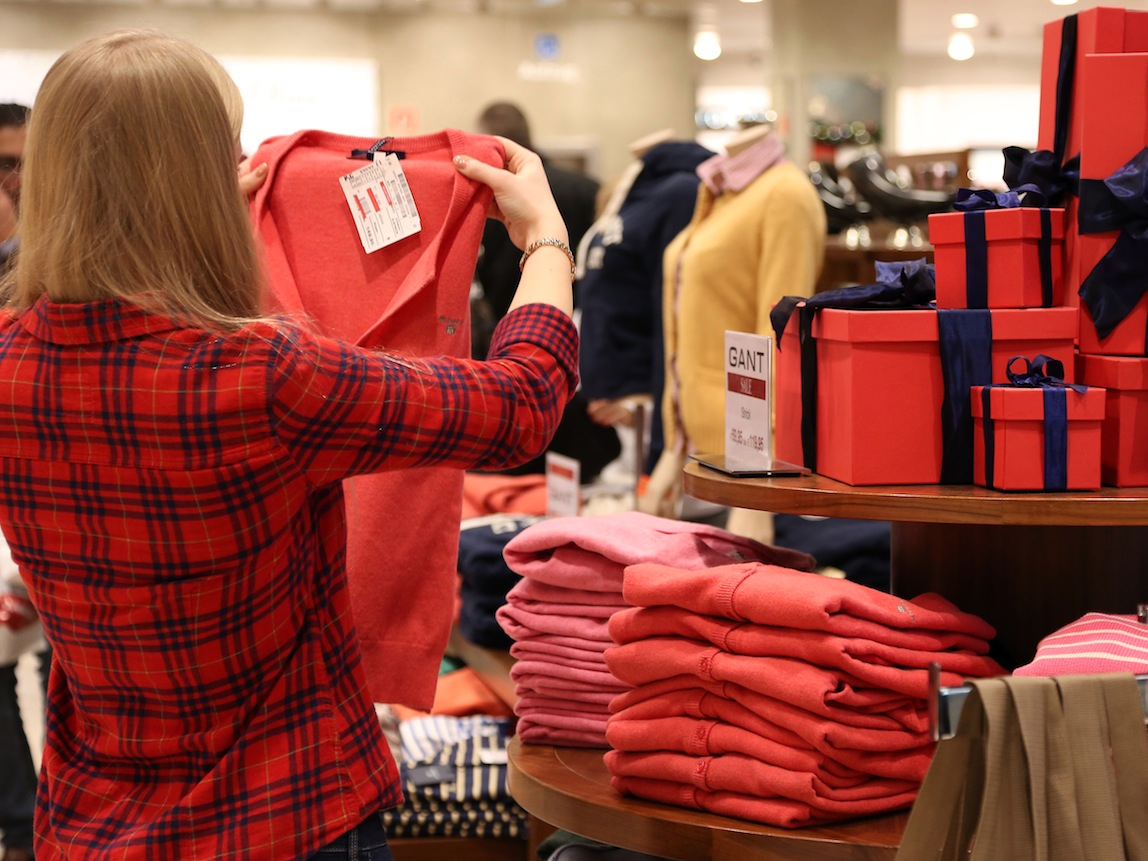Not_Face: (62, 48, 242, 302)
